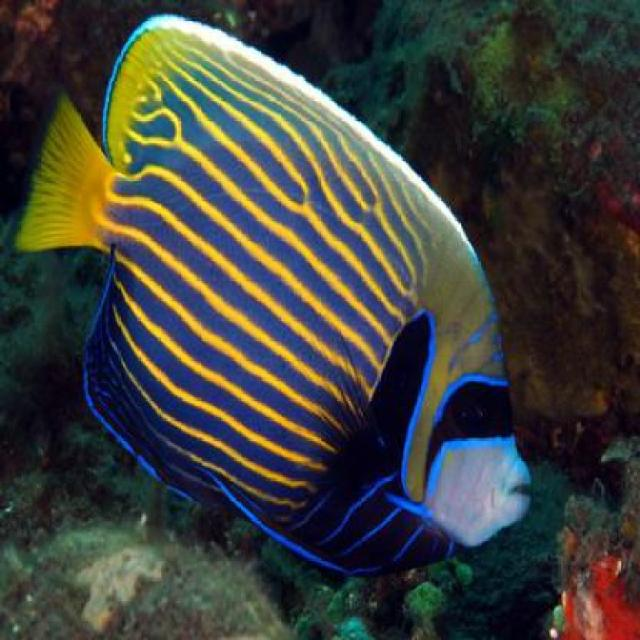AngelFish: (23, 16, 535, 579)
